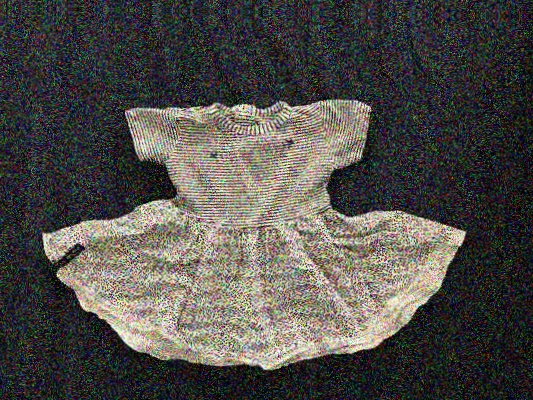Dress: (31, 33, 502, 373)
